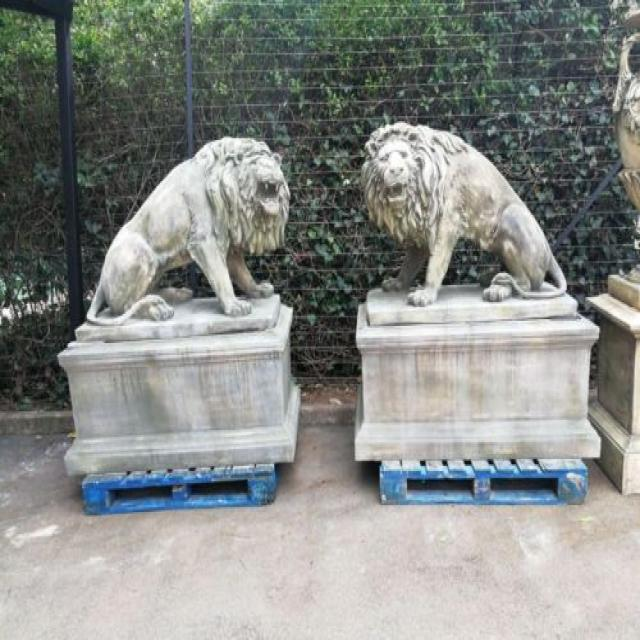Concrete: (353, 137, 602, 507), (56, 137, 301, 505)
